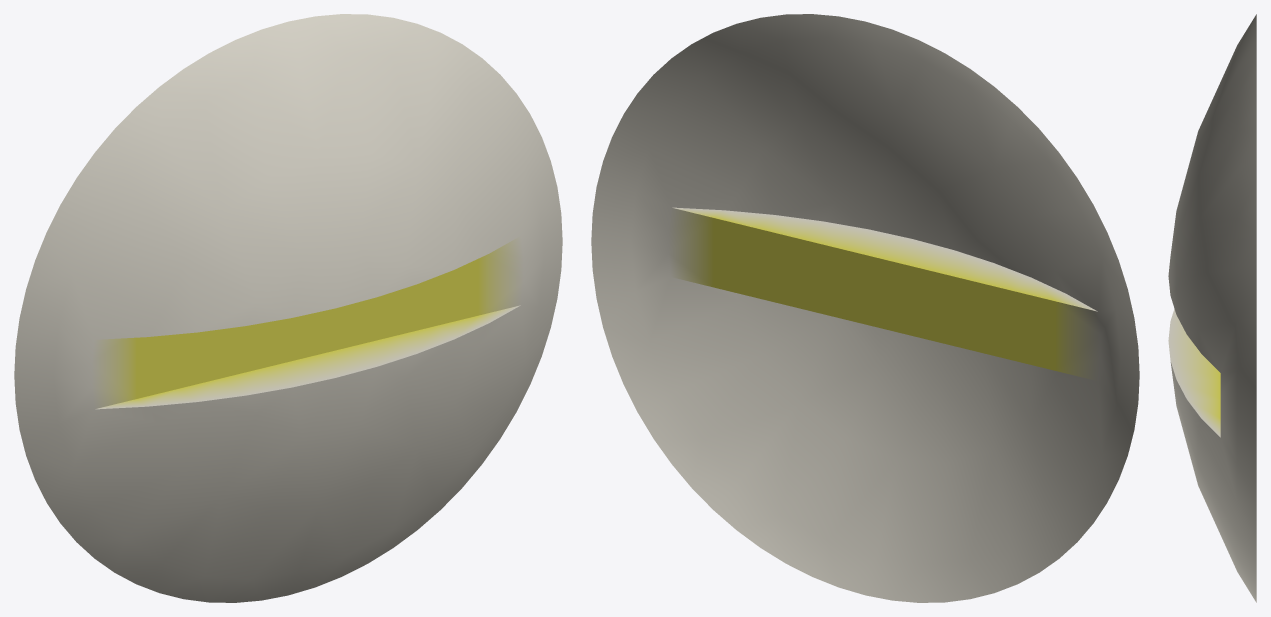
File: Kit_OutletScrew.fbx
3 views of the same model, side by side, from view 1: azimuth 30°, elevation 25°; view 2: azimuth 150°, elevation 25°; view 3: azimuth 270°, elevation 25° (orthographic). The views are drawn at different scales.
Parts seen in each view (by area): view 1: Kit_OutletScrew; view 2: Kit_OutletScrew; view 3: Kit_OutletScrew.
Part boxes in pixels (box(x1,y1,x2,y2)): Kit_OutletScrew: box(14, 14, 562, 602); Kit_OutletScrew: box(591, 14, 1139, 602); Kit_OutletScrew: box(1168, 14, 1256, 602).
Size of the model in its own units: 0.0066 by 0.0066 by 0.000987.
